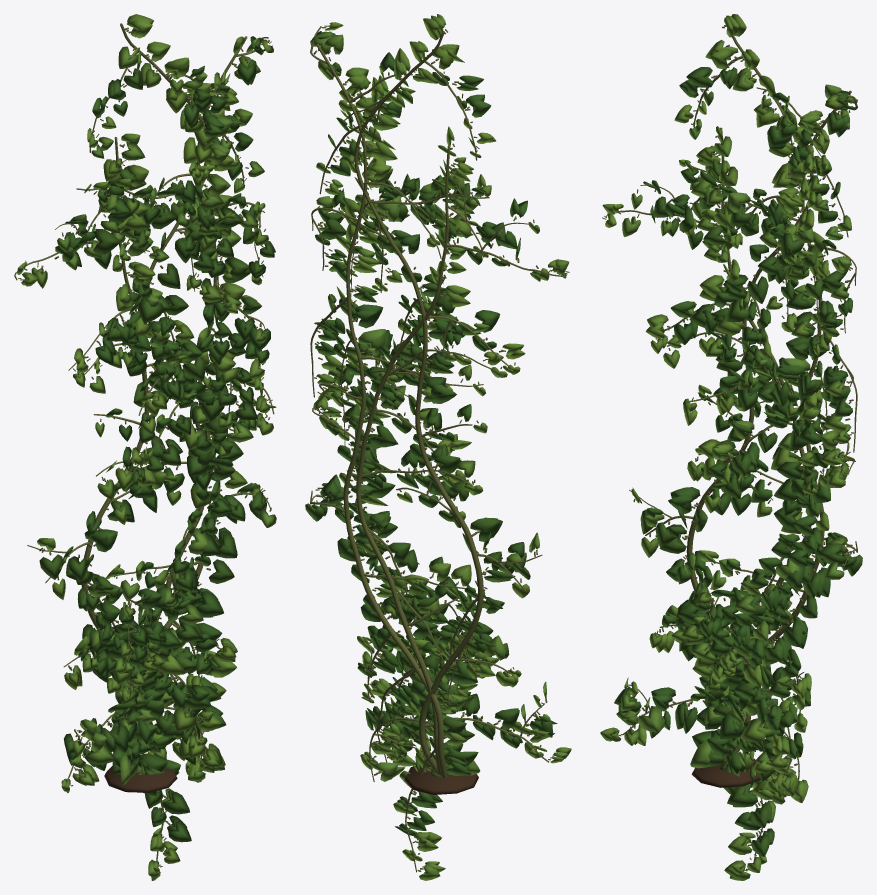
Rendered from climber_ivy_40b.glb.
The picture shows the model from 3 angles, left to right: view 1: azimuth 30°, elevation 25°; view 2: azimuth 150°, elevation 25°; view 3: azimuth 330°, elevation 25°; orthographic projection.
Visible parts, largest first — view 1: Sammel Pflanze, Sammel Putz; view 2: Sammel Pflanze, Sammel Putz; view 3: Sammel Pflanze, Sammel Putz.
Boxes of the visible parts, x1,y1,x2,y2 form: Sammel Pflanze: (17, 14, 276, 880); Sammel Putz: (14, 23, 274, 867); Sammel Pflanze: (305, 14, 571, 880); Sammel Putz: (310, 25, 569, 872); Sammel Pflanze: (600, 14, 862, 880); Sammel Putz: (602, 25, 857, 871).
Size of the model in its own units: 1.34 by 4.34 by 0.4389.
